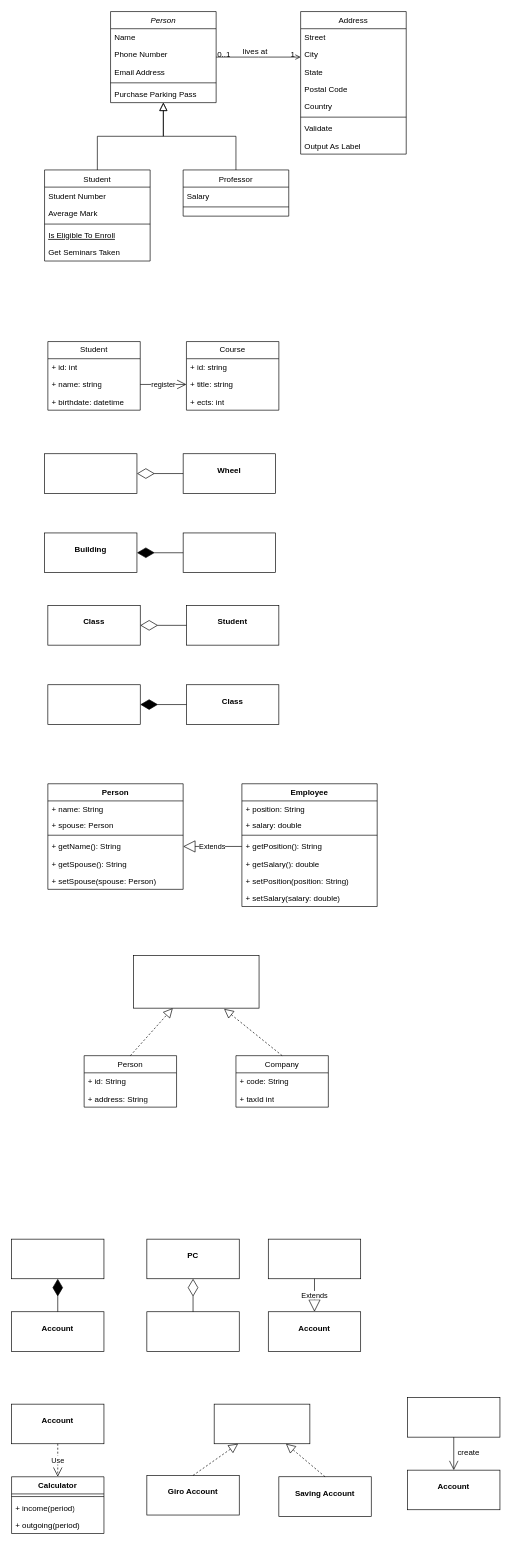
This 512x1547 diagram has some shape labels left out. The centre of each missing label's shape, as x and y in pixels:
<<Interface>> Account: the point at 262,1423
<<Interface>> Owner + buy (realEstate) + sell (realEstate): the point at 196,981
Bank: the point at 57,1258
Car: the point at 90,473
CPU: the point at 192,1331
Credit Card: the point at 314,1258
Customer: the point at 453,1417
Room: the point at 229,552
School: the point at 93,704
